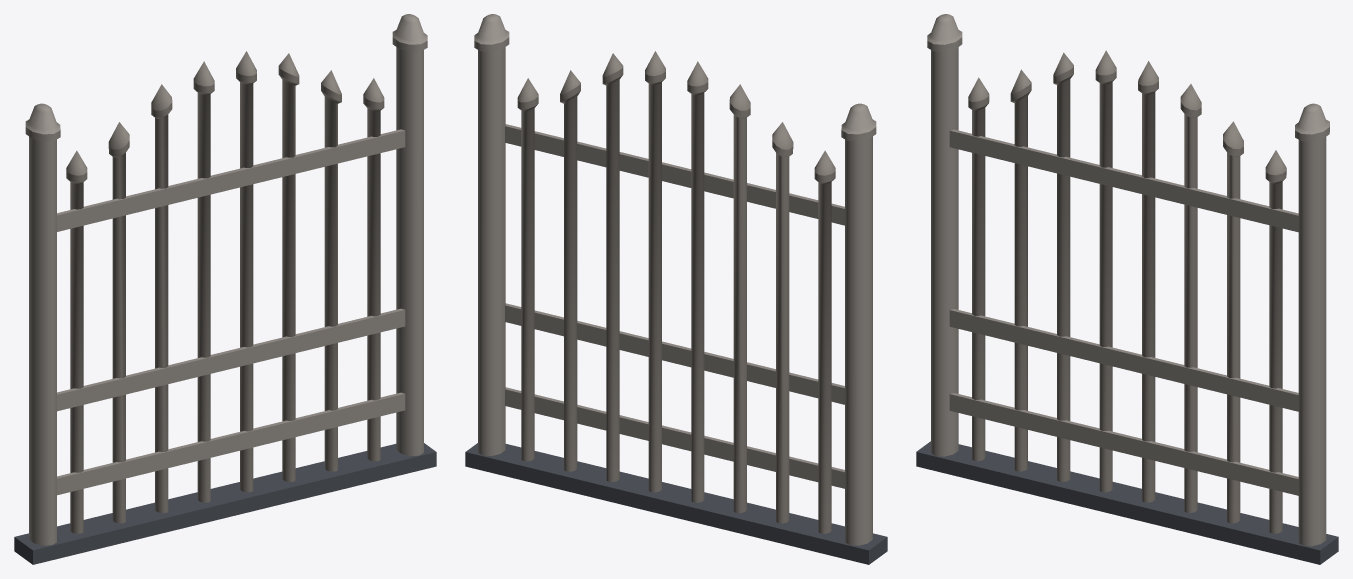
File: Fence_7.fbx
3 renders of one model, left to right at view 1: azimuth 30°, elevation 25°; view 2: azimuth 150°, elevation 25°; view 3: azimuth 330°, elevation 25°, orthographic.
Parts seen in each view (by area): view 1: Fence_7; view 2: Fence_7; view 3: Fence_7.
Boxes of the visible parts, box(x1,y1,x2,y2) form: Fence_7: box(14, 14, 436, 564); Fence_7: box(465, 14, 887, 564); Fence_7: box(916, 14, 1338, 564).
Size of the model in its own units: 269 by 288 by 25.21.
